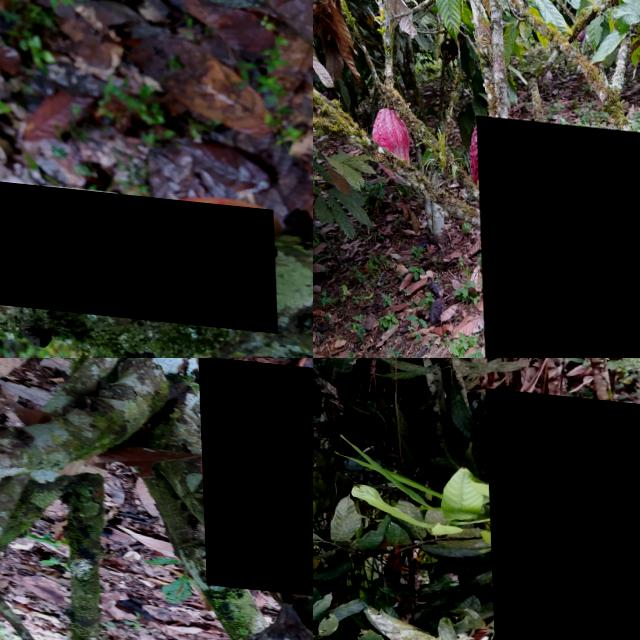Monilia: (0, 165, 274, 323), (483, 382, 640, 640), (198, 358, 313, 590)
Sana: (475, 109, 640, 358), (370, 106, 409, 188), (467, 111, 496, 197)
